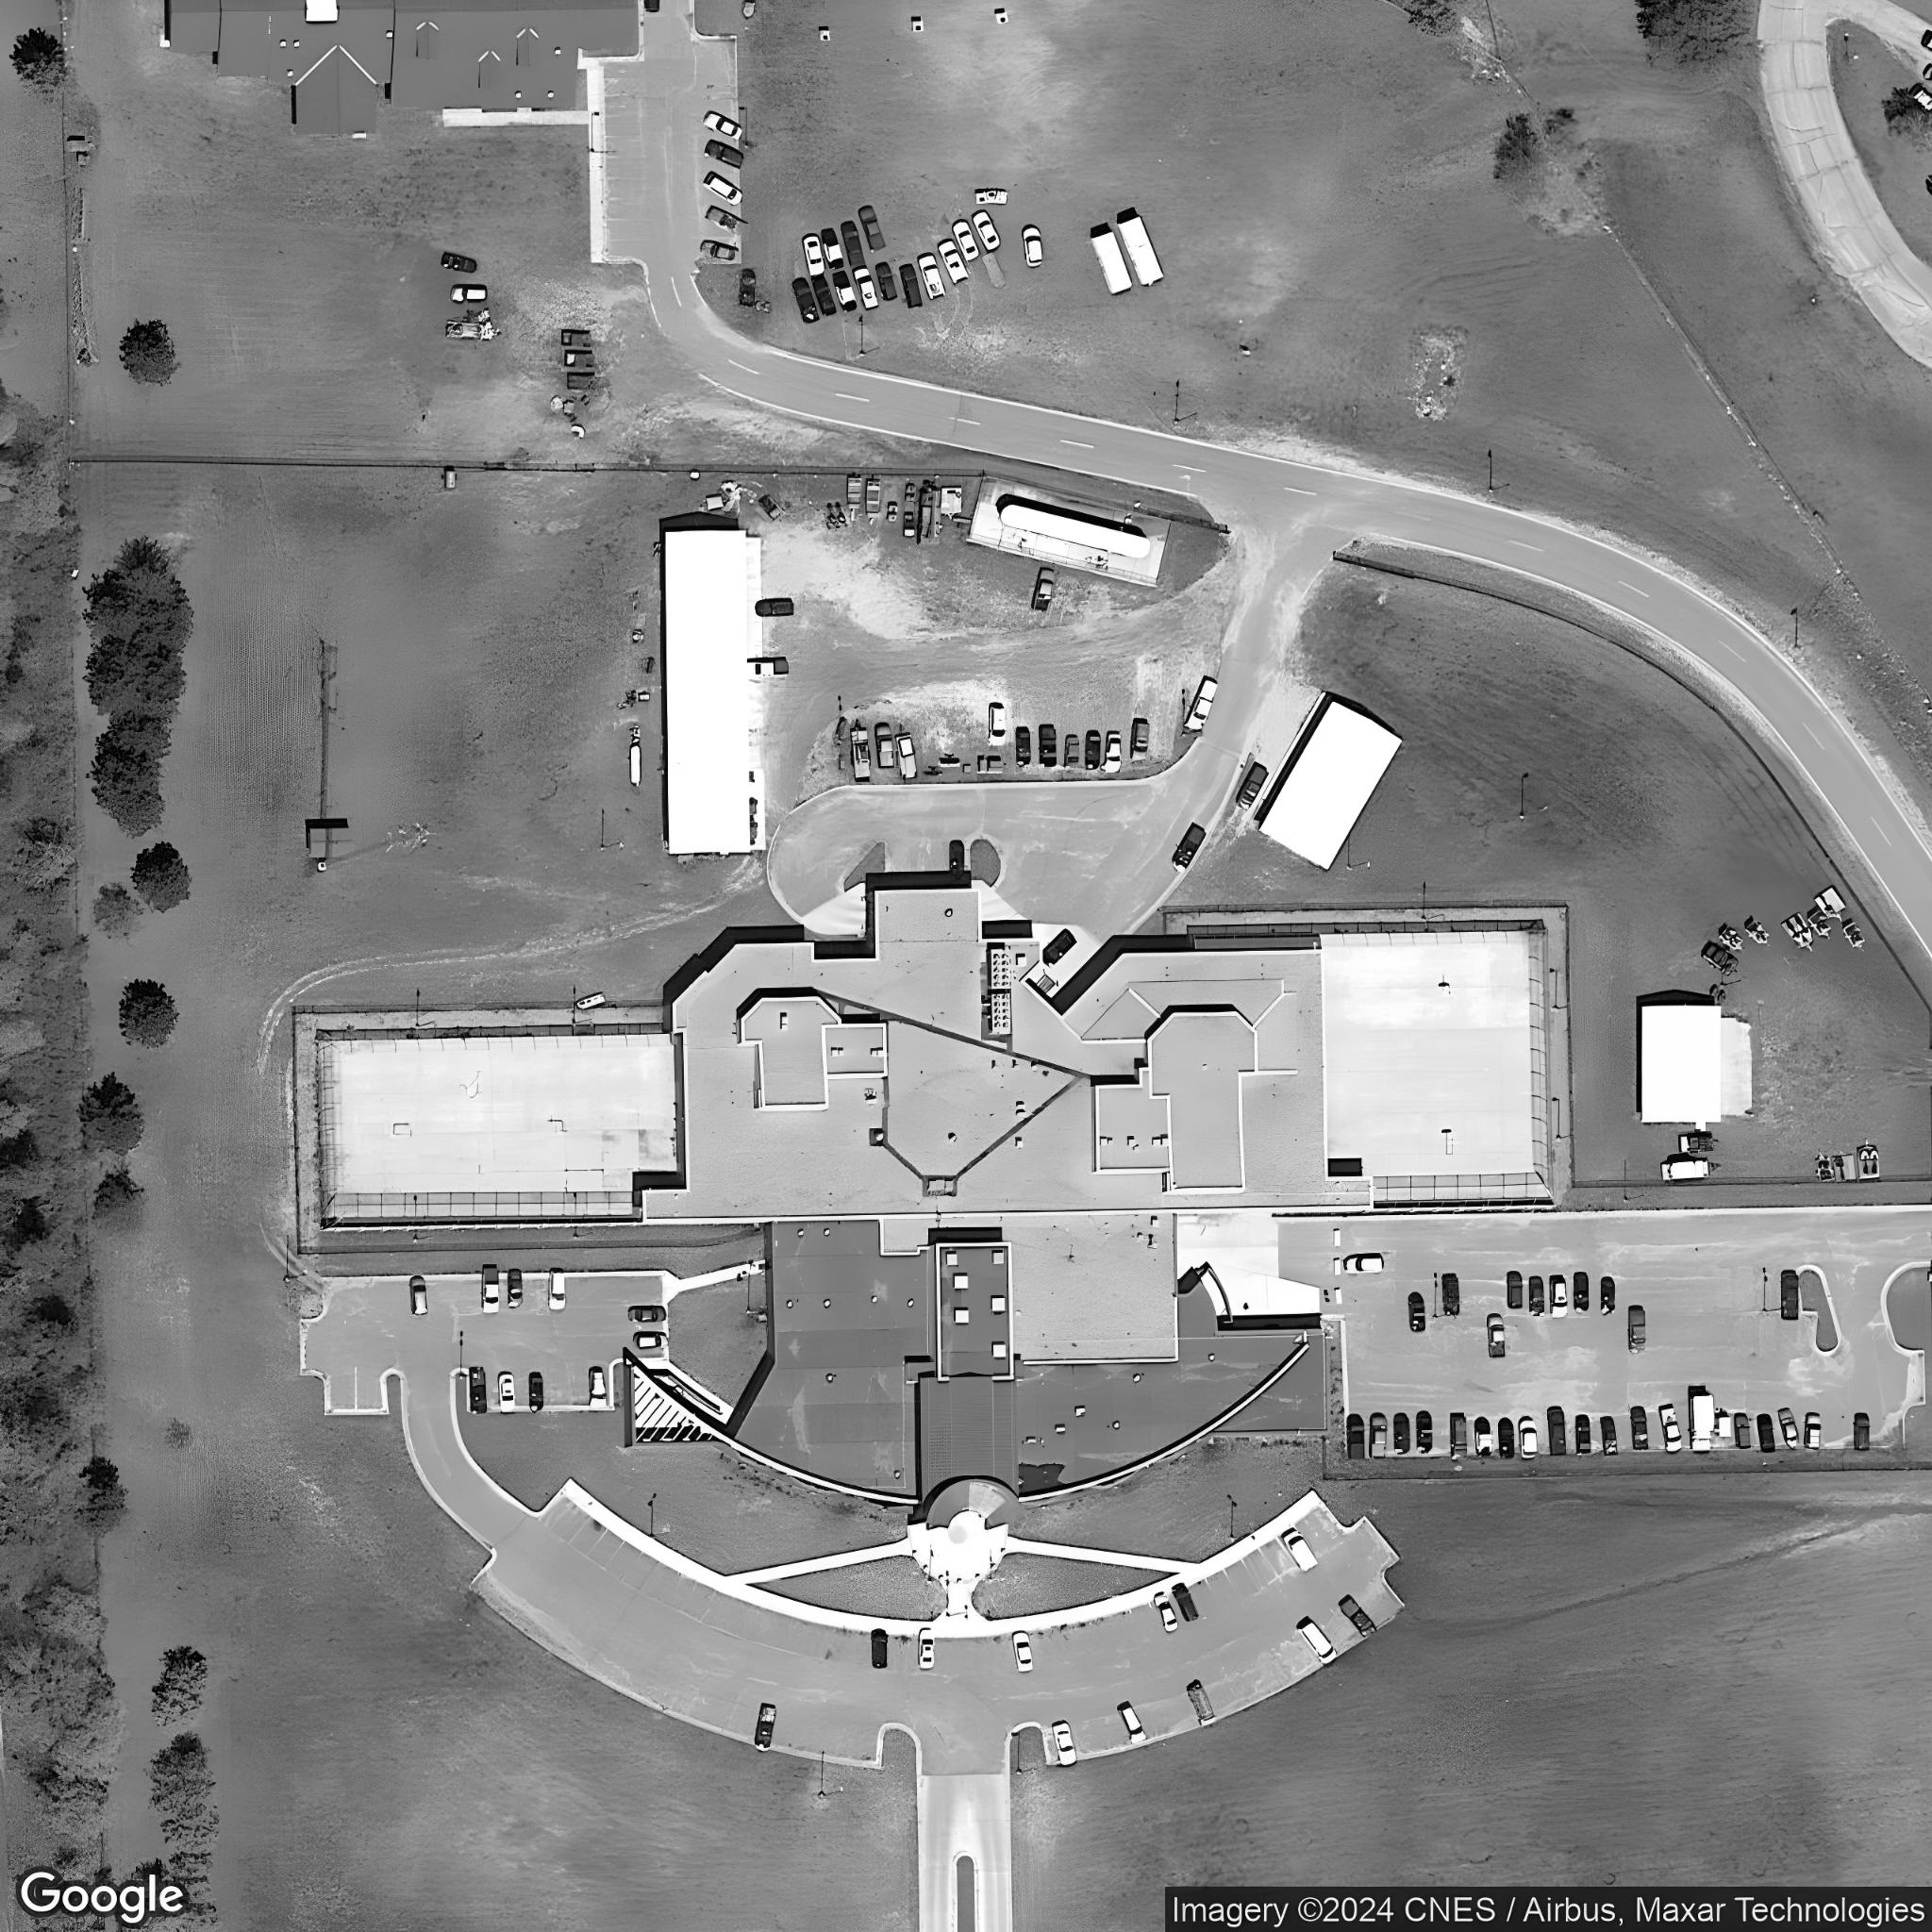Other: (623, 886, 1375, 1532), (165, 2, 639, 136), (663, 527, 752, 856), (1254, 697, 1405, 876), (1640, 1001, 1723, 1127)
Propane: (993, 488, 1157, 564), (626, 741, 644, 787)
